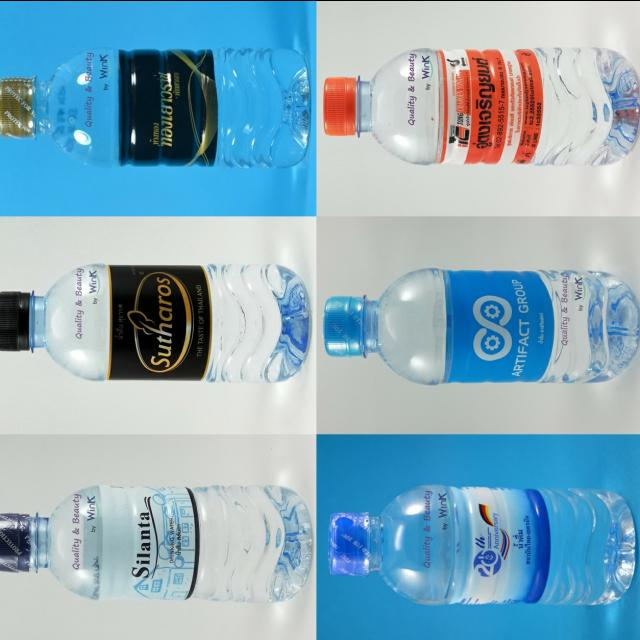plastik: (323, 47, 640, 165), (0, 47, 310, 167), (323, 267, 639, 384), (328, 484, 635, 604), (0, 263, 309, 382), (0, 484, 312, 601)
